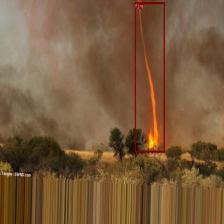fire: (135, 2, 164, 152)
